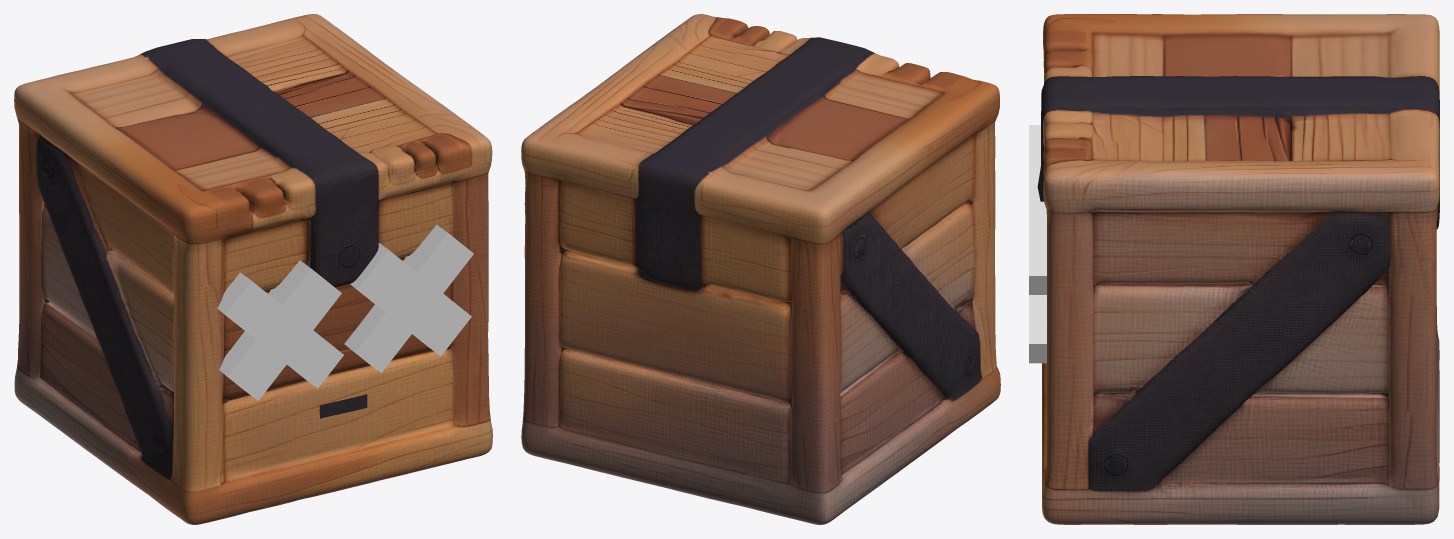
File: 未附身小箱.fbx
The picture shows the model from 3 angles, left to right: view 1: azimuth 30°, elevation 25°; view 2: azimuth 150°, elevation 25°; view 3: azimuth 270°, elevation 25°; orthographic projection. The views are drawn at different scales.
Parts seen in each view (by area): view 1: 未被附身, 立方体; view 2: 未被附身; view 3: 未被附身, 立方体.
Boxes of the visible parts, <box> form: 未被附身: <box>14,14,492,524</box>; 立方体: <box>217,224,473,400</box>; 未被附身: <box>521,14,1000,524</box>; 未被附身: <box>1037,14,1439,524</box>; 立方体: <box>1029,125,1046,363</box>.
Size of the model in its own units: 4975 by 4899 by 5091.
2 materials, 1 textured.
